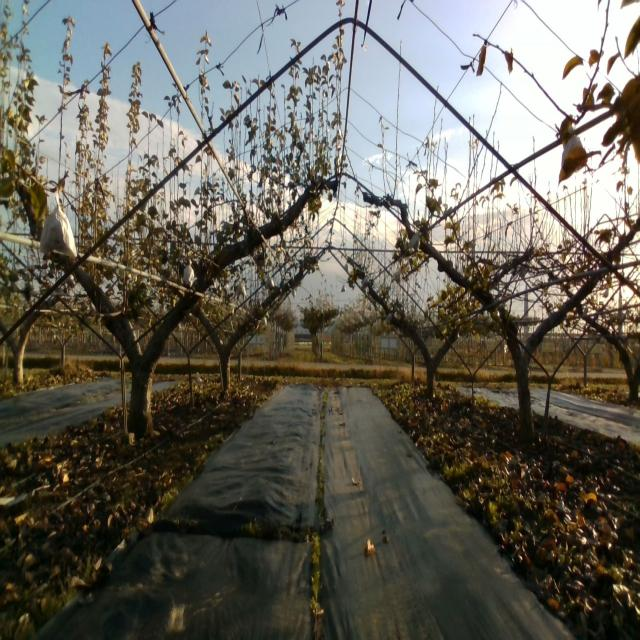pearbags: (37, 190, 79, 258), (560, 120, 586, 171), (181, 260, 196, 286), (406, 232, 421, 253), (235, 280, 247, 302)
